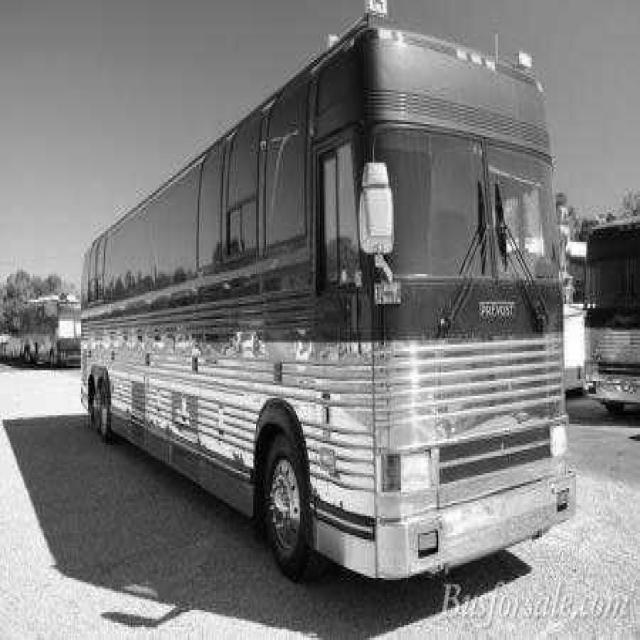Bus: (79, 46, 573, 585)
